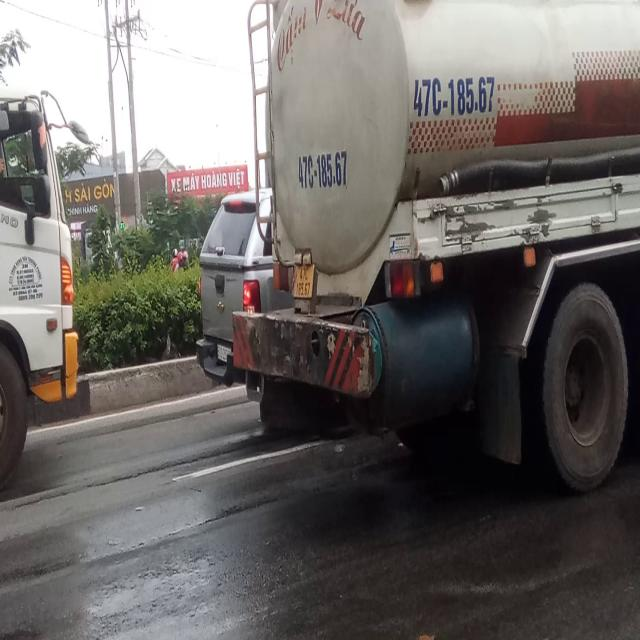bien_vang: (294, 264, 316, 302)
